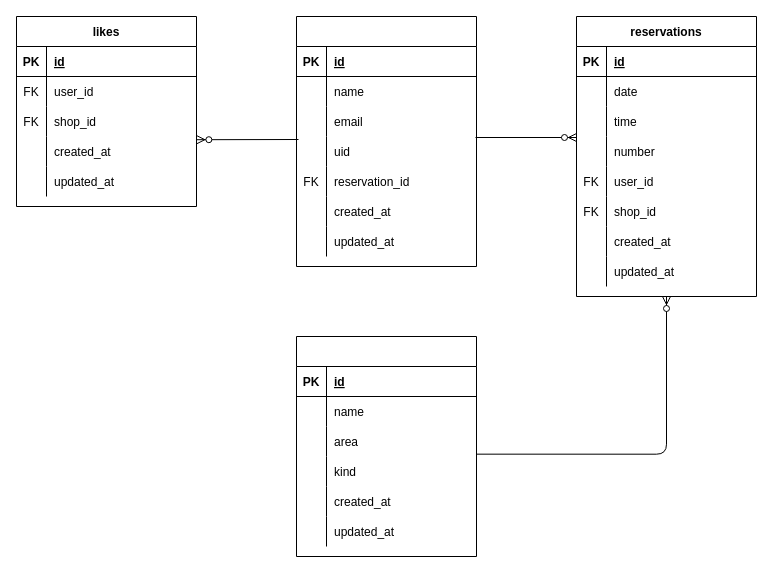
The diagram is 773 pixels wide and 573 high, and some of its shapes have lost their labels. Each missing label, with the box of its shape:
shops: (296, 336, 476, 556)
users: (296, 16, 476, 266)
